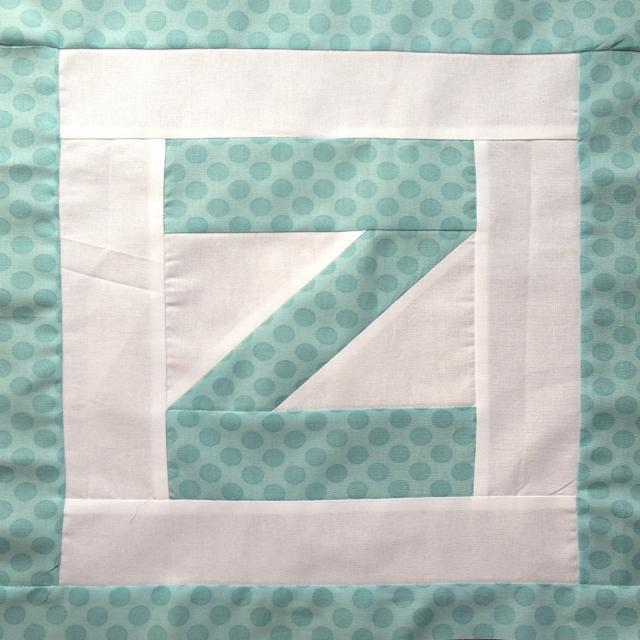Z: (101, 99, 502, 522)
